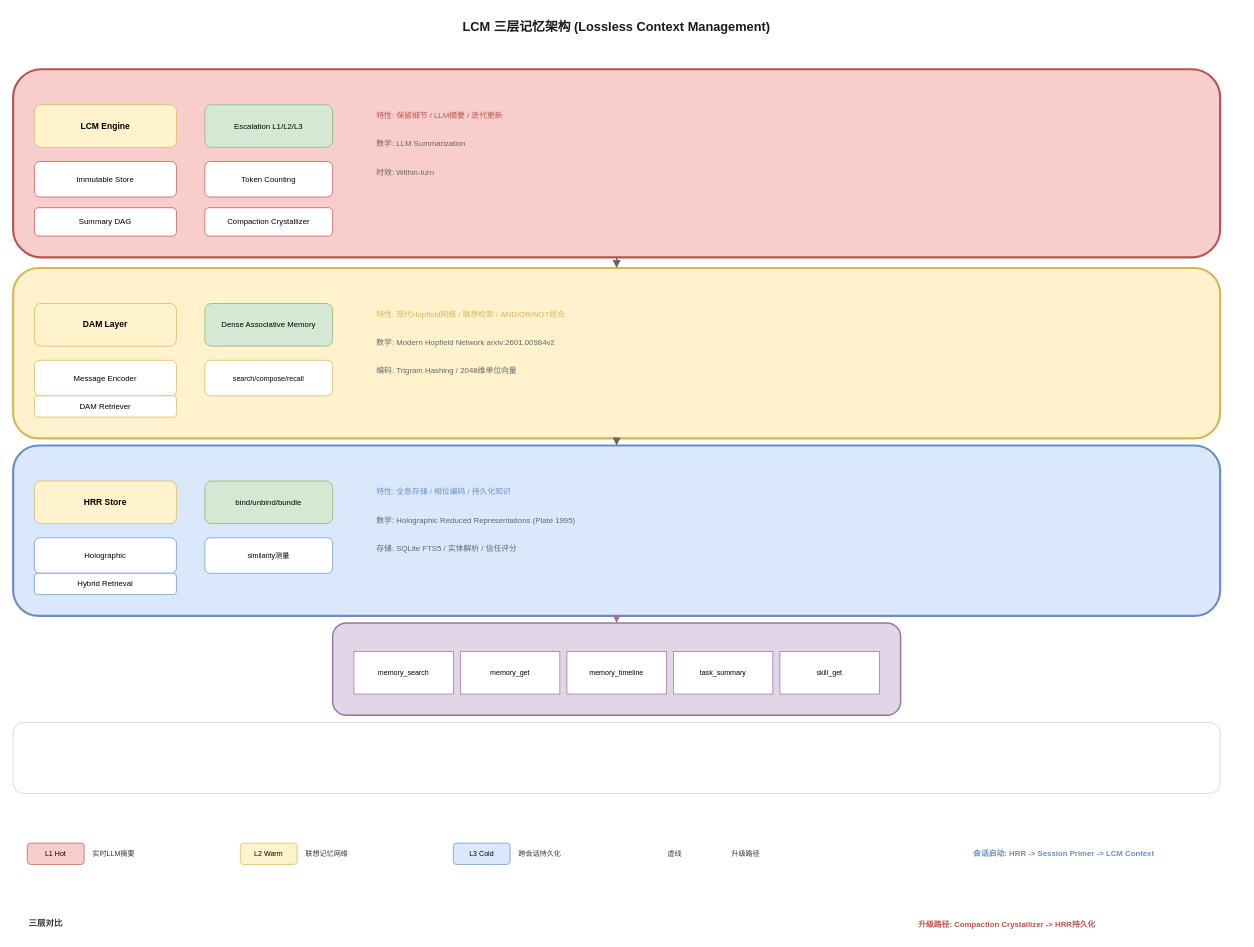
The diagram is 1254 pixels wide and 947 high, and some of its shapes have lost their labels. The box of each missing label's shape, as (x1, y1, x2, y2) in pixels:
L1 HOT 热记忆层 (Within-turn): (12, 68, 1221, 258)
L2 WARM 温记忆层 (Within-session): (12, 267, 1221, 439)
L3 COLD 冷记忆层 (Cross-session): (12, 444, 1221, 617)
统一工具接口 (5 tools): (332, 622, 901, 716)
